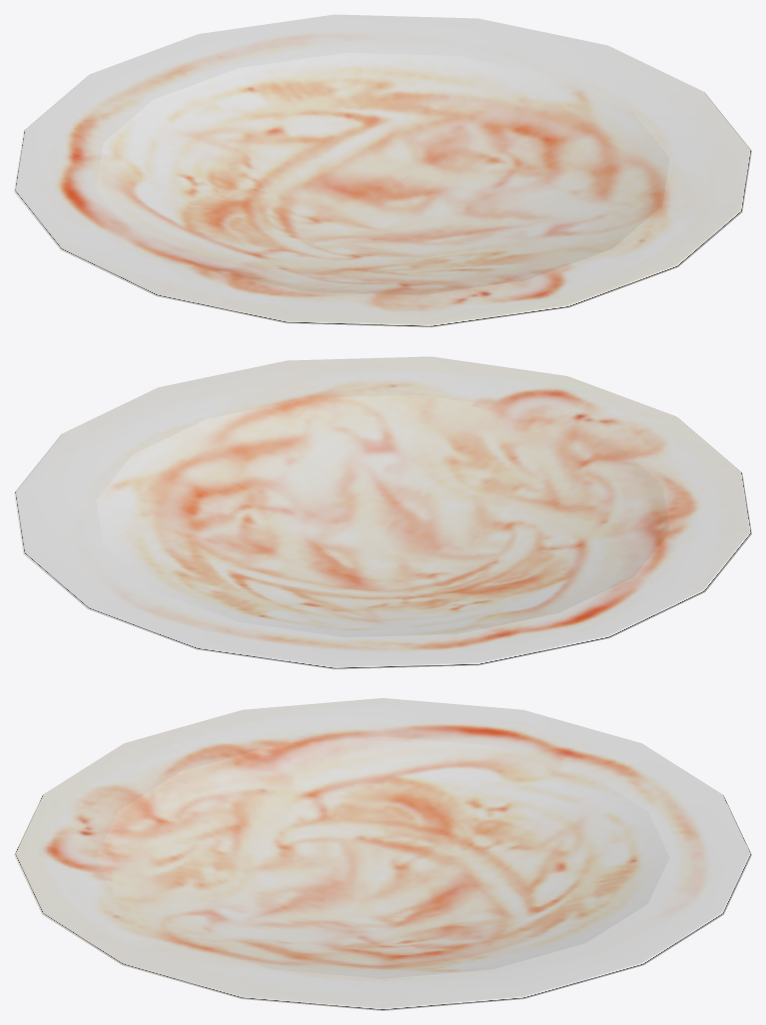
The model's file is plateDeepDirty.fbx.
The picture shows the model from 3 angles, top to bottom: view 1: azimuth 30°, elevation 25°; view 2: azimuth 150°, elevation 25°; view 3: azimuth 270°, elevation 25°; orthographic projection.
Visible parts, largest first — view 1: plateDeepDirty; view 2: plateDeepDirty; view 3: plateDeepDirty.
Part boxes in pixels (bbox=[...]): plateDeepDirty: bbox=[14, 14, 751, 327]; plateDeepDirty: bbox=[14, 356, 751, 669]; plateDeepDirty: bbox=[14, 698, 751, 1010].
Bounding box in the file's own units: 0.3777 × 0.0345 × 0.3777.
1 material, 1 textured.
